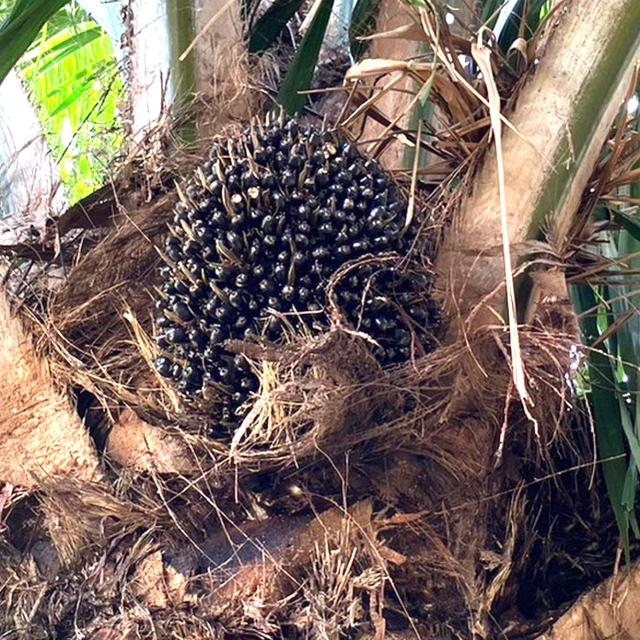unripe: (153, 118, 442, 418)
